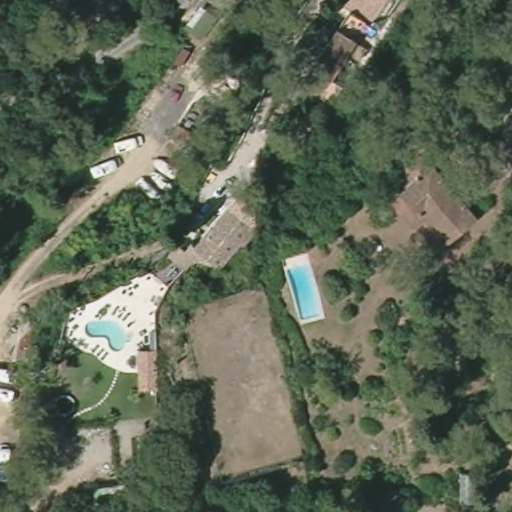pool: (284, 263, 325, 321), (81, 314, 136, 354)
